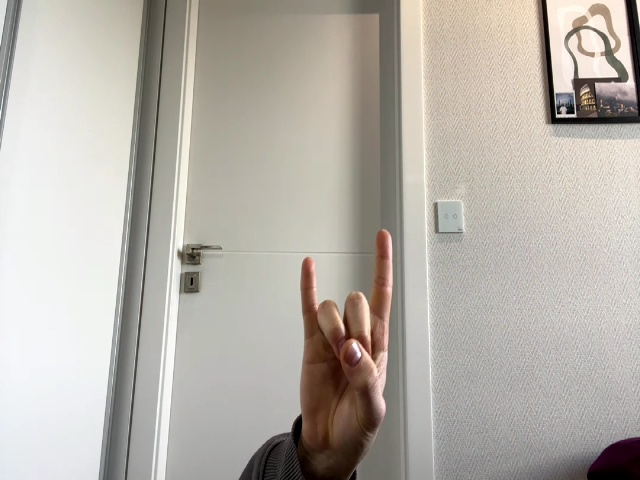Y: (300, 229, 393, 446)
